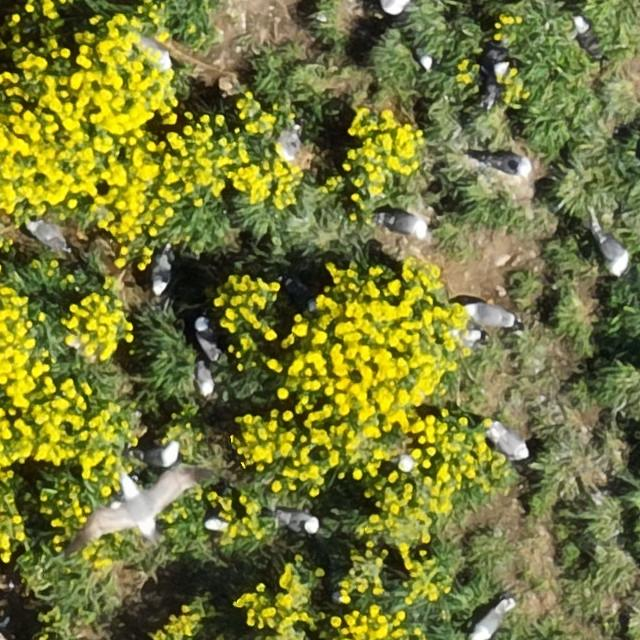F: (83, 465, 205, 547)
umineko: (29, 222, 69, 250), (467, 304, 514, 327), (473, 606, 505, 639), (493, 428, 529, 457), (600, 235, 627, 273), (485, 154, 531, 176), (384, 215, 428, 236), (152, 251, 172, 294), (196, 318, 218, 357), (279, 512, 318, 532), (281, 126, 301, 160), (152, 443, 180, 465), (196, 362, 213, 394), (574, 15, 590, 43), (415, 50, 433, 70), (205, 516, 228, 531)
